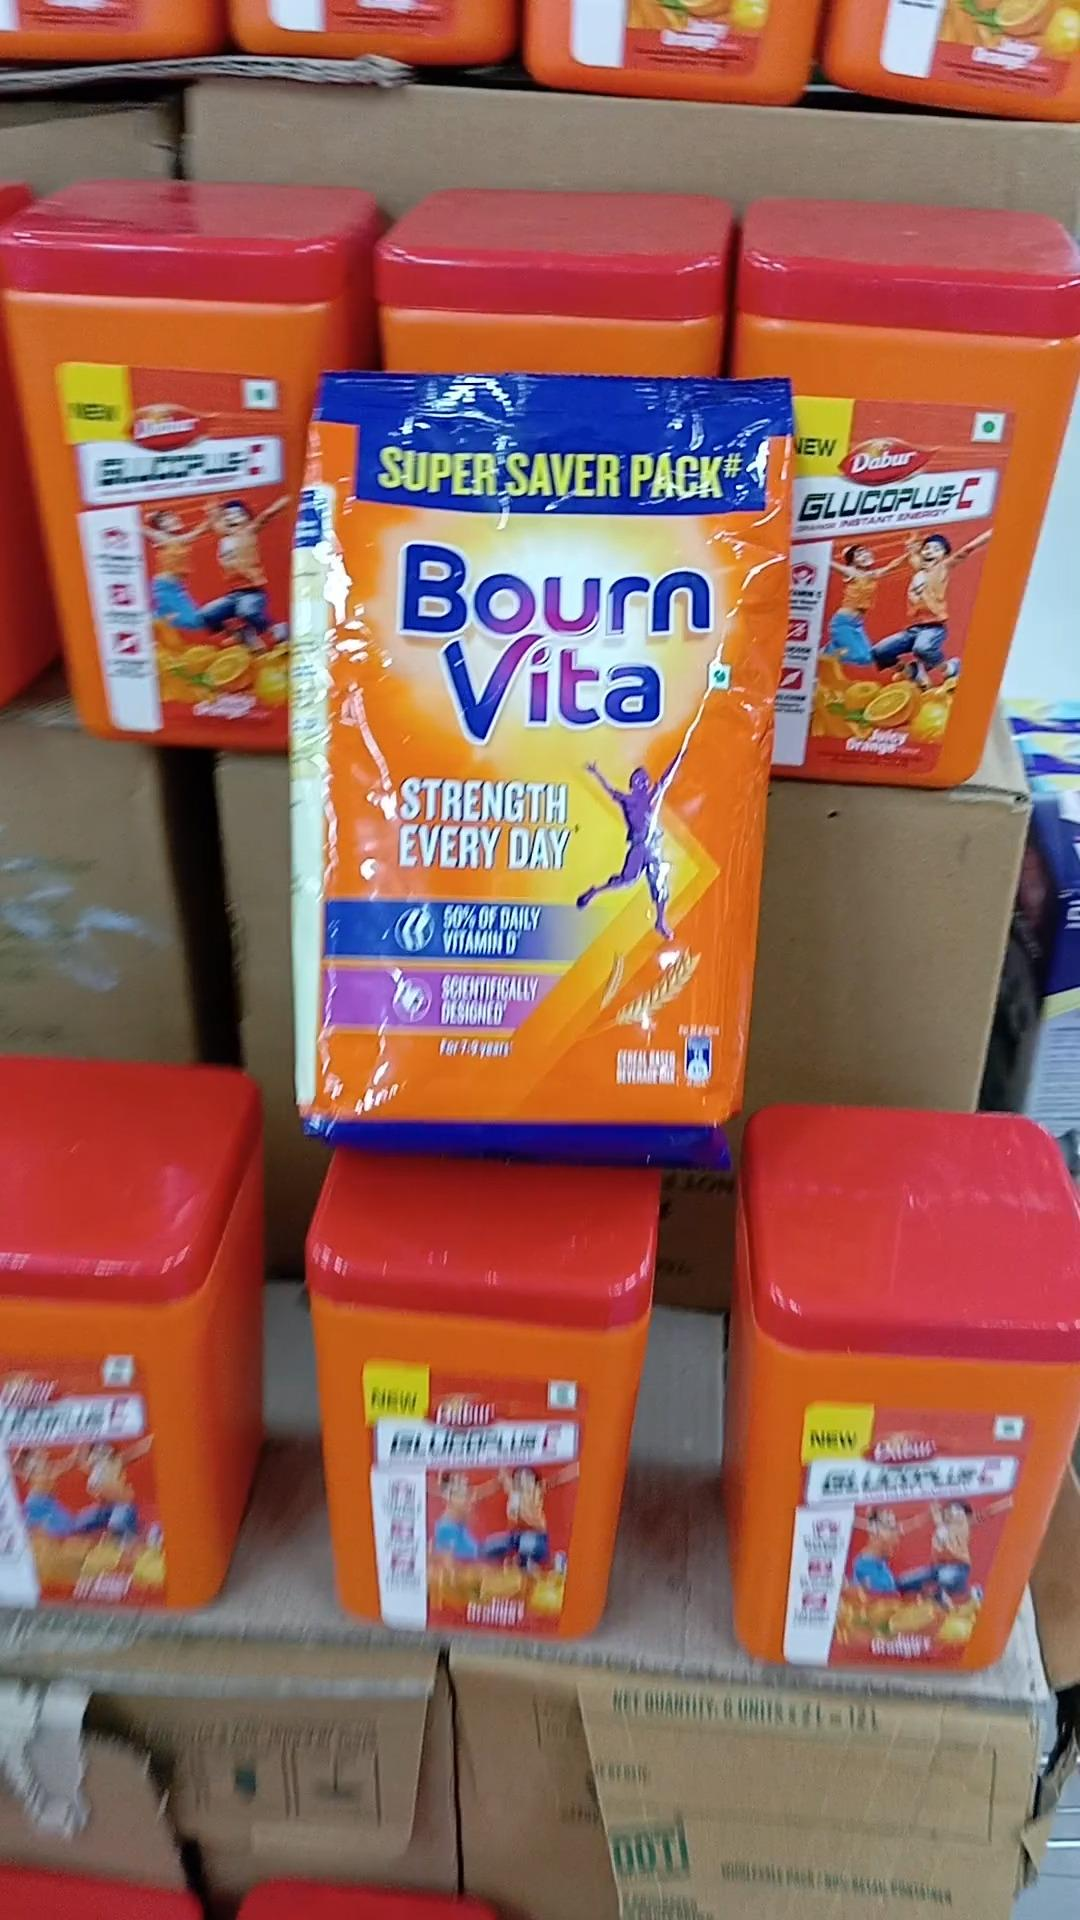BOURN_VITA_1_KG_POUCH: (286, 360, 771, 1180)
